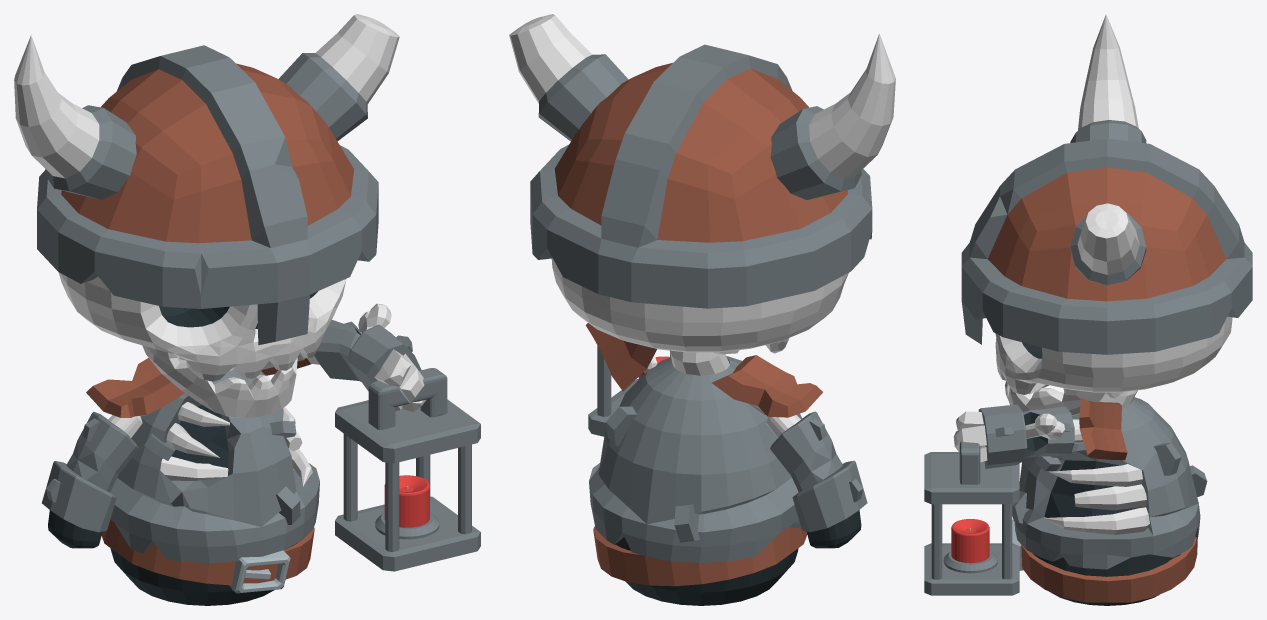
File: SkeletonLookout.glb
3 views of the same model, side by side, from view 1: azimuth 30°, elevation 25°; view 2: azimuth 150°, elevation 25°; view 3: azimuth 270°, elevation 25° (orthographic). The views are drawn at different scales.
Visible parts, largest first — view 1: Cube.004; view 2: Cube.004; view 3: Cube.004.
Boxes of the visible parts, <box> form: Cube.004: <box>14,14,480,605</box>; Cube.004: <box>509,14,895,605</box>; Cube.004: <box>924,14,1252,605</box>.
Size of the model in its own units: 1.38 by 2.02 by 1.22.
